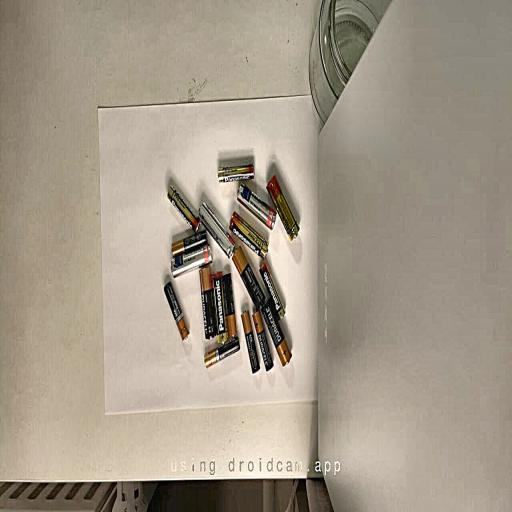DuracellAA: (262, 299, 292, 366), (233, 247, 265, 309), (200, 266, 217, 339)
DuracellAAA: (164, 281, 189, 341), (241, 309, 260, 373), (253, 311, 273, 371), (204, 336, 240, 368), (172, 230, 207, 256), (223, 274, 237, 338)
PanasonicAA: (267, 176, 299, 240), (229, 211, 268, 257), (212, 272, 228, 343)
PanasonicAAA: (168, 183, 200, 233), (260, 260, 285, 319), (218, 163, 254, 182)
RainbowAA: (199, 202, 235, 257), (237, 183, 276, 229), (171, 244, 212, 277)
